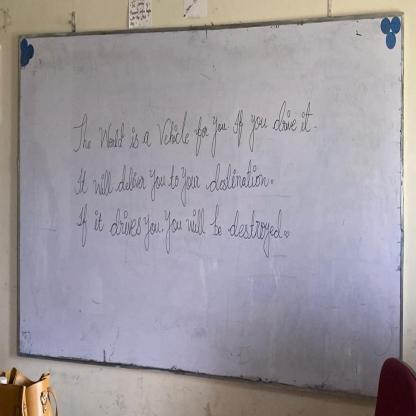Handwritten text: (71, 94, 315, 159), (71, 202, 283, 271), (75, 159, 269, 209)
Whiteboard: (12, 4, 407, 409)
